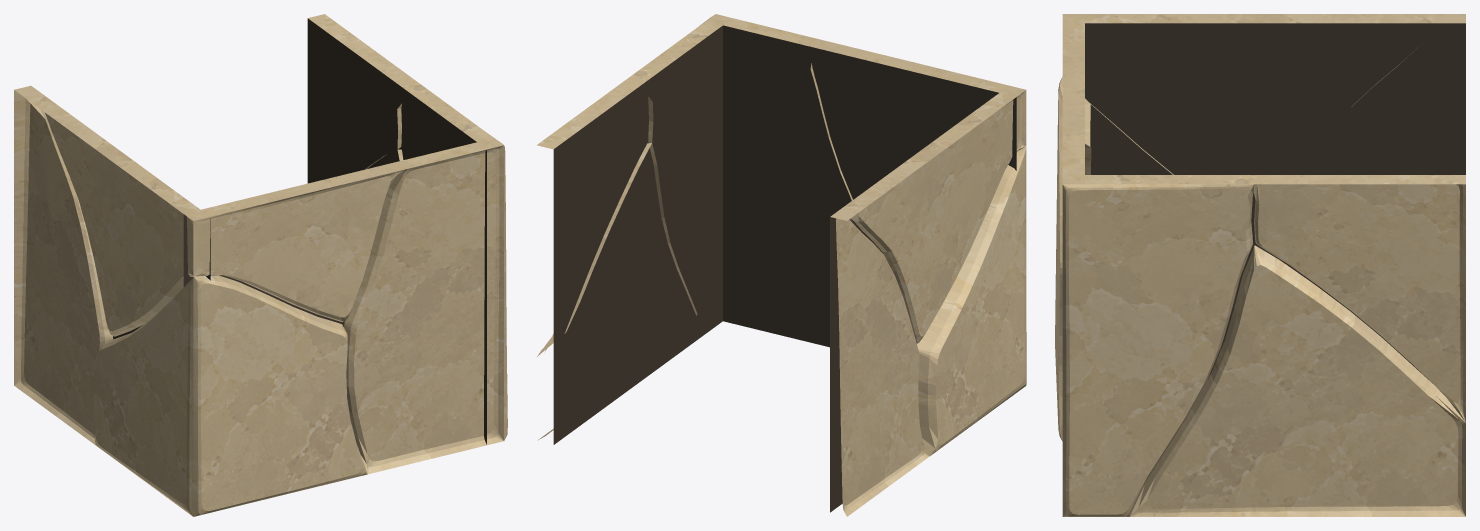
The model's file is ground_end_06.glb.
The picture shows the model from 3 angles, left to right: view 1: azimuth 30°, elevation 25°; view 2: azimuth 150°, elevation 25°; view 3: azimuth 270°, elevation 25°; orthographic projection. The views are drawn at different scales.
Visible parts, largest first — view 1: GroundEnd06_Body; view 2: GroundEnd06_Body; view 3: GroundEnd06_Body.
Boxes of the visible parts, box(x1,y1,x2,y2) form: GroundEnd06_Body: box(14, 14, 507, 516); GroundEnd06_Body: box(537, 14, 1026, 516); GroundEnd06_Body: box(1055, 14, 1465, 516).
Size of the model in its own units: 1.04 by 0.91 by 1.02.
Materials: 11 (10 with a texture image).
